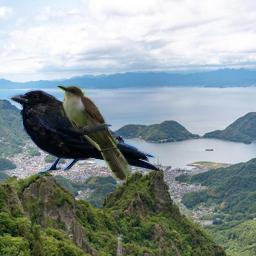Crow: (6, 89, 162, 176)
Cuckoo: (56, 83, 132, 182)
